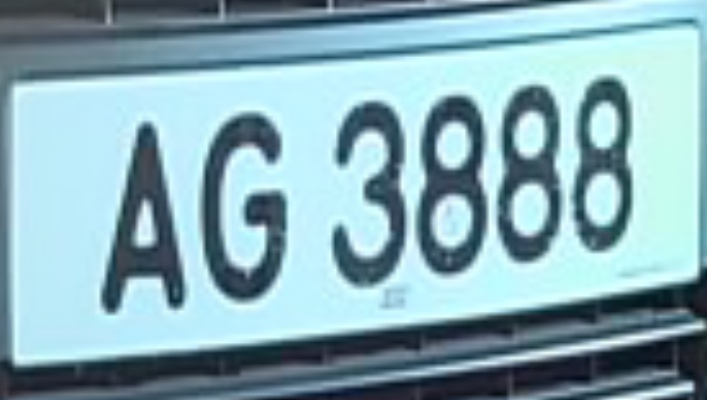3: (322, 77, 413, 305)
8: (408, 71, 494, 294), (568, 50, 650, 278), (490, 60, 570, 283)
A: (89, 104, 196, 326)
G: (195, 99, 296, 315)
